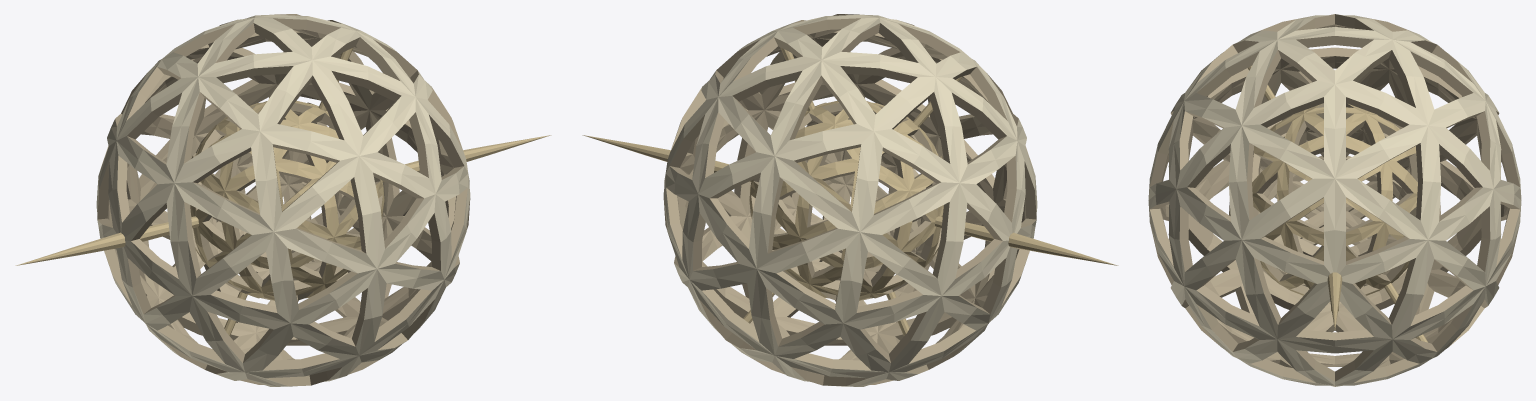
3 views of the same model, side by side, from view 1: azimuth 30°, elevation 25°; view 2: azimuth 150°, elevation 25°; view 3: azimuth 270°, elevation 25° (orthographic).
Parts seen in each view (by area): view 1: WholeOuterPerforatedSphericalTest, WholeInnerPerforatedSphericalTest, WholePolarSpineAndRadialBeam_0_-1, WholePolarSpineAndRadialBeam_0_1; view 2: WholeOuterPerforatedSphericalTest, WholeInnerPerforatedSphericalTest, WholePolarSpineAndRadialBeam_0_-1, WholePolarSpineAndRadialBeam_0_1; view 3: WholeOuterPerforatedSphericalTest, WholeInnerPerforatedSphericalTest, WholePolarSpineAndRadialBeam_0_1.
Part boxes in pixels (x1,y1,x2,y2): WholeOuterPerforatedSphericalTest: (96, 14, 470, 386); WholeInnerPerforatedSphericalTest: (190, 100, 384, 300); WholePolarSpineAndRadialBeam_0_-1: (15, 216, 198, 265); WholePolarSpineAndRadialBeam_0_1: (382, 135, 551, 181); WholeOuterPerforatedSphericalTest: (663, 14, 1037, 386); WholeInnerPerforatedSphericalTest: (749, 100, 943, 300); WholePolarSpineAndRadialBeam_0_-1: (935, 216, 1118, 265); WholePolarSpineAndRadialBeam_0_1: (582, 135, 751, 181); WholeOuterPerforatedSphericalTest: (1148, 14, 1521, 386); WholeInnerPerforatedSphericalTest: (1252, 103, 1417, 295); WholePolarSpineAndRadialBeam_0_1: (1327, 272, 1342, 329).
Size of the model in its own units: 0.166 by 0.0978 by 0.1.
